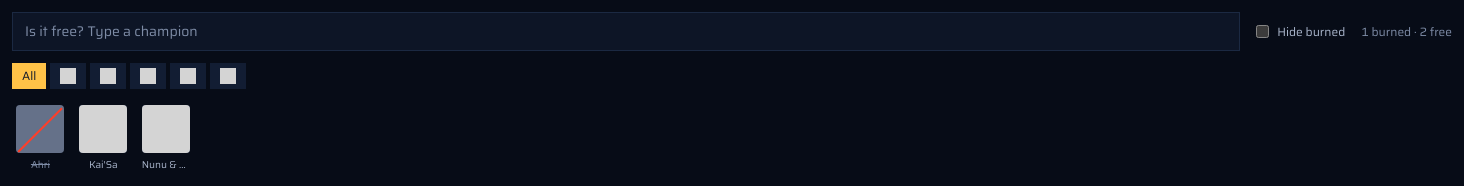
Test case: FearlessGrid › can hide the burned champions
Click the checkbox labelled "Hide burned".
click(1263, 32)  # box [1256,25,1269,38]
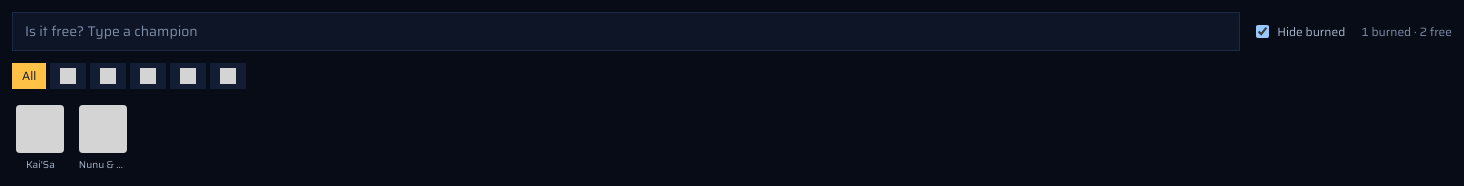
Expected: the button "Ahri" is gone
